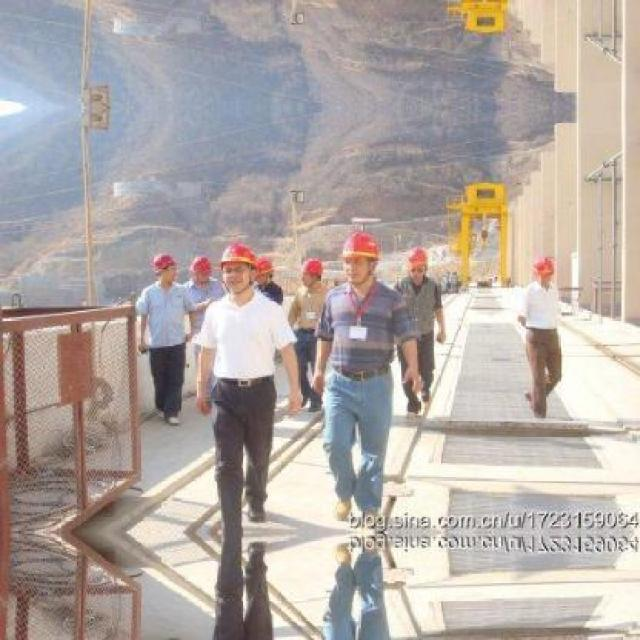helmet: (216, 238, 264, 294), (342, 229, 381, 282), (525, 250, 558, 288), (402, 244, 429, 282), (301, 250, 327, 288), (191, 250, 215, 288), (150, 247, 176, 282), (254, 249, 275, 286)
